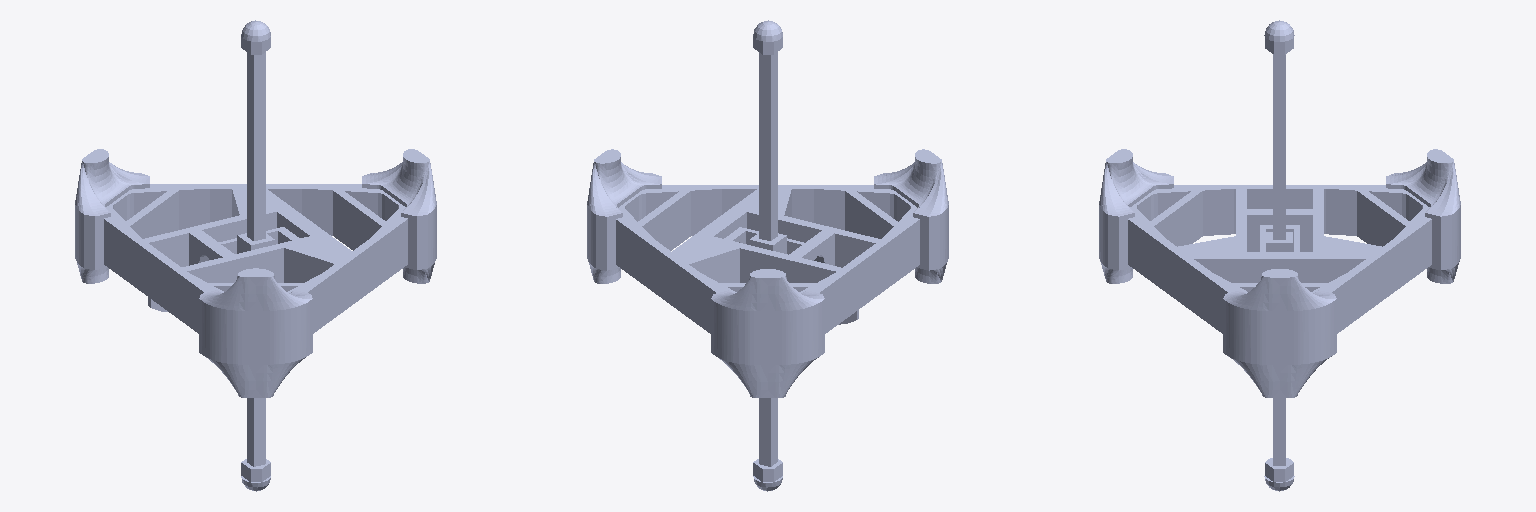
robot.urdf — ramiel2:
<?xml version="1.0" encoding="utf-8"?>
<!-- This URDF was automatically created by SolidWorks to URDF Exporter! Originally created by [author] ([email redacted]) 
     Commit Version: 1.6.0-4-g7f85cfe  Build Version: 1.6.7995.38578
     For more information, please see http://wiki.ros.org/sw_urdf_exporter -->
<robot
  name="ramiel2">
  <link
    name="base_link">
    <inertial>
      <origin
        xyz="-0.0163 0.0056 -0.00642"
        rpy="0 0 0" />
      <mass
        value="13.959" />
      <inertia
        ixx="0.58153312113"
        ixy="0.00047377296"
        ixz="0.01002995747"
        iyy="0.62883843864"
        iyz="-0.00135094509"
        izz="1.10481157886" />
    </inertial>
    <visual>
      <origin
        xyz="0 0 0"
        rpy="0 0 0" />
      <geometry>
        <mesh
          filename="../meshes/base_link.STL" />
      </geometry>
      <material
        name="">
        <color
          rgba="0.792156862745098 0.819607843137255 0.933333333333333 1" />
      </material>
    </visual>
    <collision>
      <origin
        xyz="0 0 0"
        rpy="0 0 0" />
      <geometry>
        <box size="0.5 0.5 0.2"/>
      </geometry>
    </collision>
  </link>
  <link
    name="roll_pitch_link">
    <inertial>
      <origin
        xyz="-0.00089 0.0 0.00520"
        rpy="0 0 0" />
      <mass
        value="0.41229" />
      <inertia
        ixx="0.00063411708"
        ixy="1.4203e-7"
        ixz="0.00000170051"
        iyy="0.00193834263"
        iyz="3.96e-9"
        izz="0.00150421906" />
    </inertial>
    <visual>
      <origin
        xyz="0 0 0"
        rpy="0 0 0" />
      <geometry>
        <mesh
          filename="../meshes/roll_pitch_link.STL" />
      </geometry>
      <material
        name="">
        <color
          rgba="0.792156862745098 0.819607843137255 0.933333333333333 1" />
      </material>
    </visual>
  </link>
  <joint
    name="roll"
    type="revolute">
    <origin
      xyz="0 0 0"
      rpy="0 0 0" />
    <parent
      link="base_link" />
    <child
      link="roll_pitch_link" />
    <axis
      xyz="1 0 0" />
    <limit
      lower="-0.69813170079"
      upper="0.69813170079"
      effort="150"
      velocity="500" />
  </joint>
  <link
    name="pitch_slide_link">
    <inertial>
      <origin
        xyz="-0.00583 -0.00105 -0.00041"
        rpy="0 0 0" />
      <mass
        value="0.54748" />
      <inertia
        ixx="0.00066451246"
        ixy="0.00001381471"
        ixz="0.00000679945"
        iyy="0.00069734504"
        iyz="-5.6057e-7"
        izz="0.00051290376" />
    </inertial>
    <visual>
      <origin
        xyz="0 0 0"
        rpy="0 0 0" />
      <geometry>
        <mesh
          filename="../meshes/pitch_slide_link.STL" />
      </geometry>
      <material
        name="">
        <color
          rgba="0.792156862745098 0.819607843137255 0.933333333333333 1" />
      </material>
    </visual>
  </link>
  <joint
    name="pitch"
    type="revolute">
    <origin
      xyz="0 -0.001 0"
      rpy="0 0 0" />
    <parent
      link="roll_pitch_link" />
    <child
      link="pitch_slide_link" />
    <axis
      xyz="0 1 0" />
    <limit
      lower="-0.69813170079"
      upper="0.69813170079"
      effort="150"
      velocity="500" />
  </joint>
  <link
    name="leg_link">
    <inertial>
      <origin
        xyz="0.0 0.00001 0.0"
        rpy="0 0 0" />
      <mass
        value="0.616" />
      <inertia
        ixx="0.08657454998"
        ixy="0.00"
        ixz="0.00"
        iyy="0.0001891915"
        iyz="-3e-11"
        izz="0.08657454948" />
    </inertial>
    <visual>
      <origin
        xyz="0 0 0"
        rpy="0 0 0" />
      <geometry>
        <mesh
          filename="../meshes/leg_link.STL" />
      </geometry>
      <material
        name="">
        <color
          rgba="0.792156862745098 0.819607843137255 0.933333333333333 1" />
      </material>
    </visual>
    <collision>
      <origin
        xyz="0 0 -0.532"
        rpy="0 0 0" /> 
      <geometry>
        <sphere radius="0.033" />
      </geometry>
    </collision>
  </link>
  <joint
    name="slide"
    type="prismatic">
    <origin
      xyz="0 0 0"
      rpy="0 0 0" />
    <parent
      link="pitch_slide_link" />
    <child
      link="leg_link" />
    <axis
      xyz="0 0 1" />
    <limit
      lower="-0.5"
      upper="0.5"
      effort="1500"
      velocity="20" />
  </joint>

</robot>

--- Render facts (derived) ---
Views: 3 orthographic renders of the robot side by side, from view 1: azimuth 30°, elevation 25°; view 2: azimuth 150°, elevation 25°; view 3: azimuth 270°, elevation 25°.
Robot: ramiel2 — 4 links, 3 joints (2 revolute, 1 prismatic); root link base_link; default pose: all joints at 0.
Links seen in each view (by area): view 1: base_link, leg_link; view 2: base_link, leg_link; view 3: base_link, leg_link.
Boxes of the visible links, x1,y1,x2,y2 form: base_link: [75, 149, 436, 397]; leg_link: [241, 20, 270, 491]; base_link: [587, 149, 948, 397]; leg_link: [753, 20, 782, 491]; base_link: [1099, 149, 1460, 397]; leg_link: [1264, 20, 1294, 491].
Bounding box of the posed robot: 0.7125 × 0.7907 × 1.13 m (x, y, z).
4 mesh visuals loaded from 4 distinct referenced files (4 binary STL).
